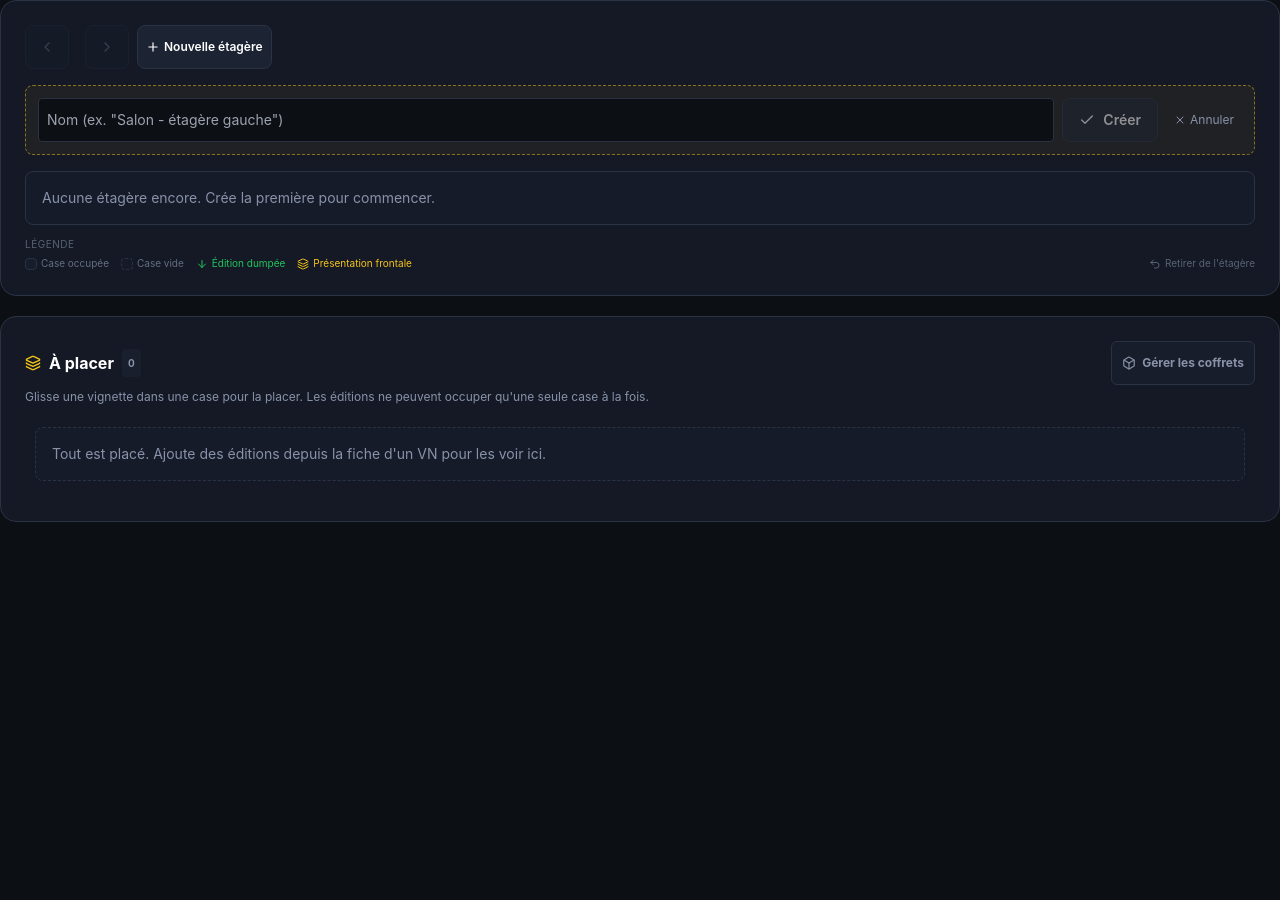
Scenario: ShelfLayoutEditor › creates a new shelf via POST and selects it
The image size is (1280, 900).
Type "Studio New" into the field with placeholder "Nom (ex. \"Salon - étagère gauche\")".
click(546, 120); type("Studio New")  # box [38,98,1054,142]
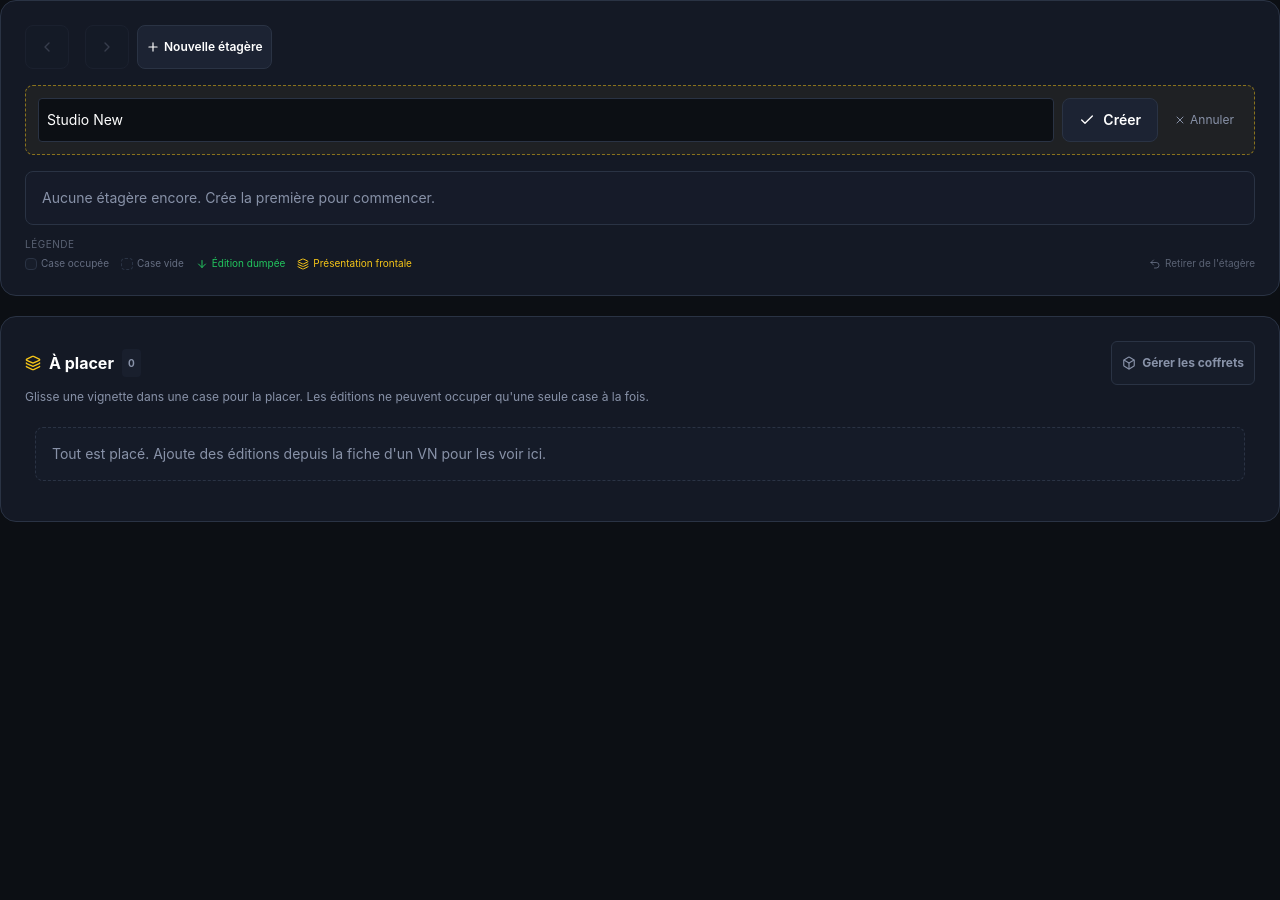
Click the button "Créer".
click(1110, 120)  # box [1062,98,1158,142]
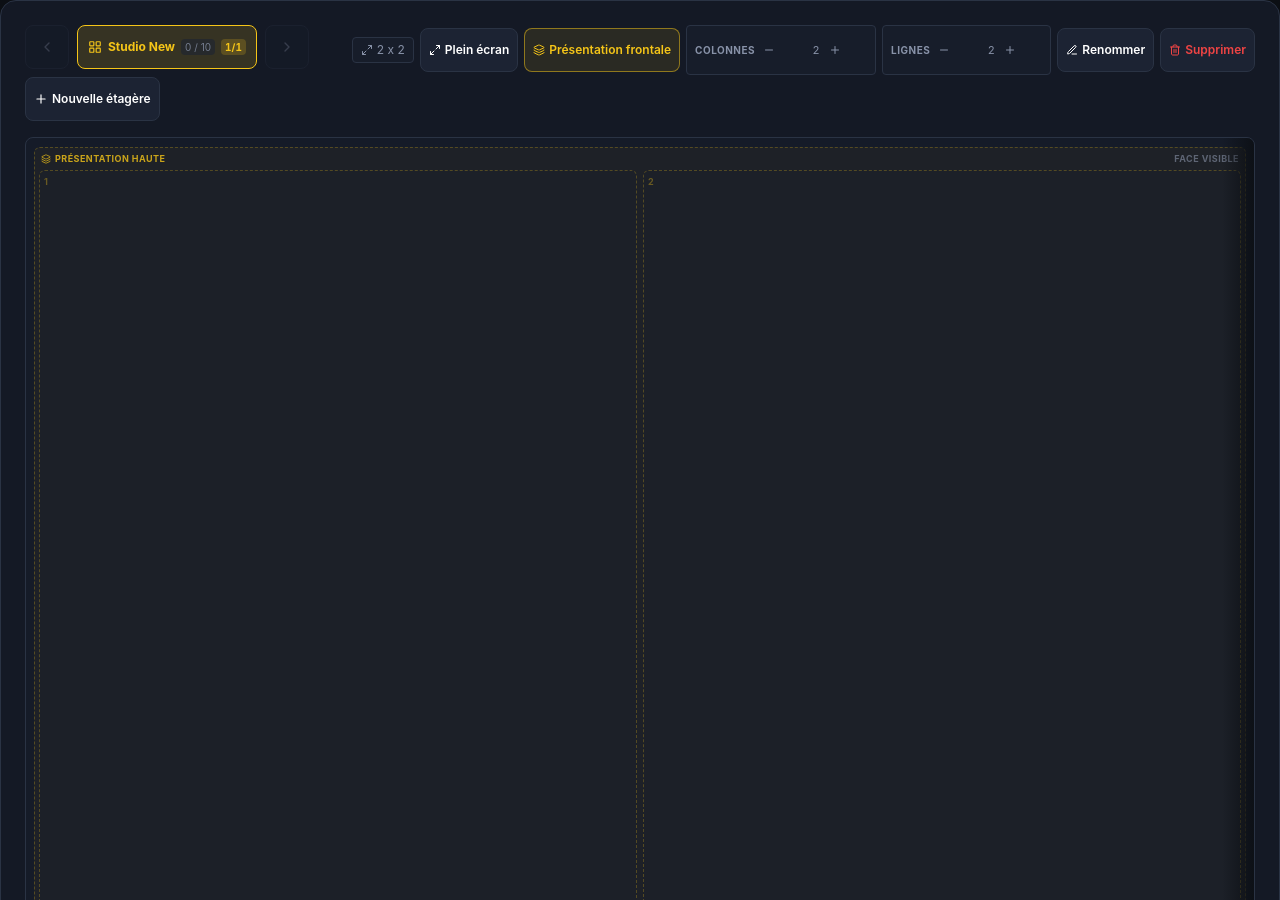
Check: the tab "Studio New 0 / 10 1/1" is shown, box [77,25,257,69]
